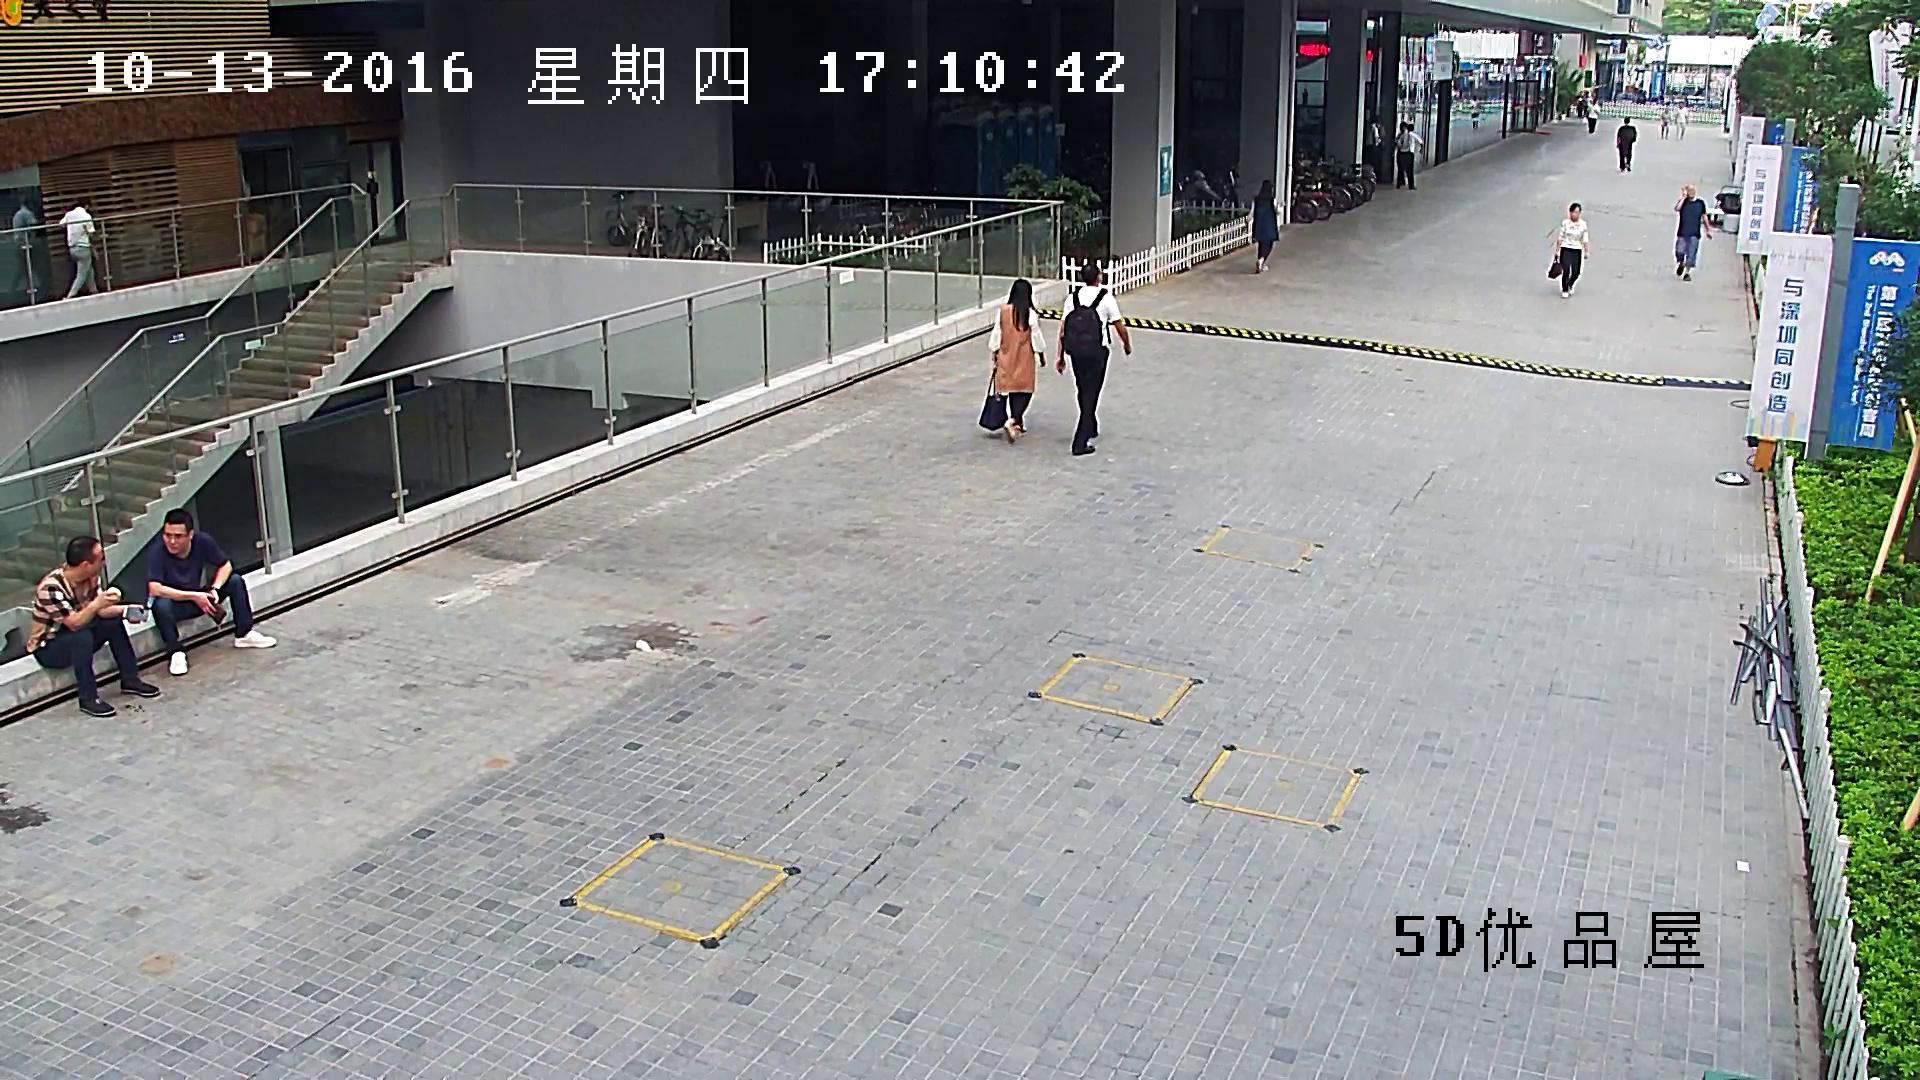person: (27, 532, 158, 718), (145, 510, 280, 673), (1058, 264, 1132, 454), (978, 278, 1046, 444), (1548, 203, 1590, 300), (1674, 184, 1714, 282), (59, 200, 97, 301), (1251, 180, 1284, 275), (11, 199, 36, 301), (1179, 164, 1221, 209), (1396, 122, 1423, 191), (1365, 115, 1385, 185), (1617, 116, 1637, 173), (1587, 98, 1599, 133), (1675, 101, 1687, 141), (1468, 95, 1479, 130), (1660, 107, 1670, 138)
